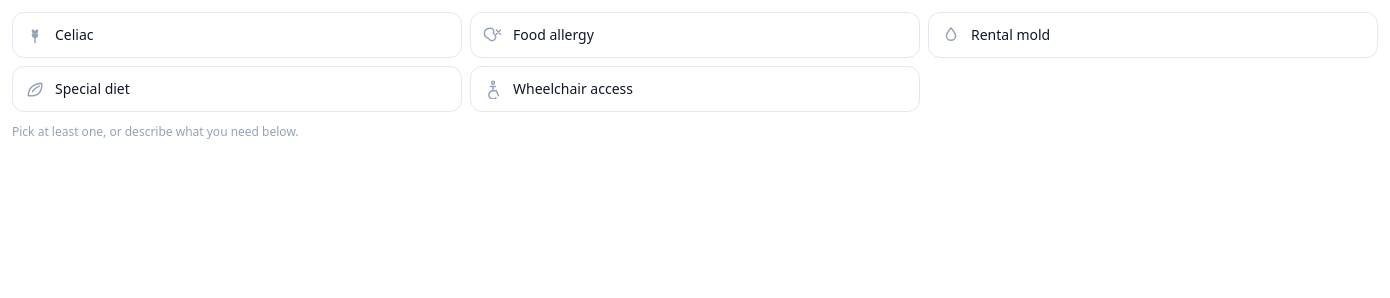
Test case: <RequirementChips /> › selecting Special diet reveals the diet picker
Click the button "Special diet".
click(92, 89)  # box x1=12 y1=66 x2=462 y2=112
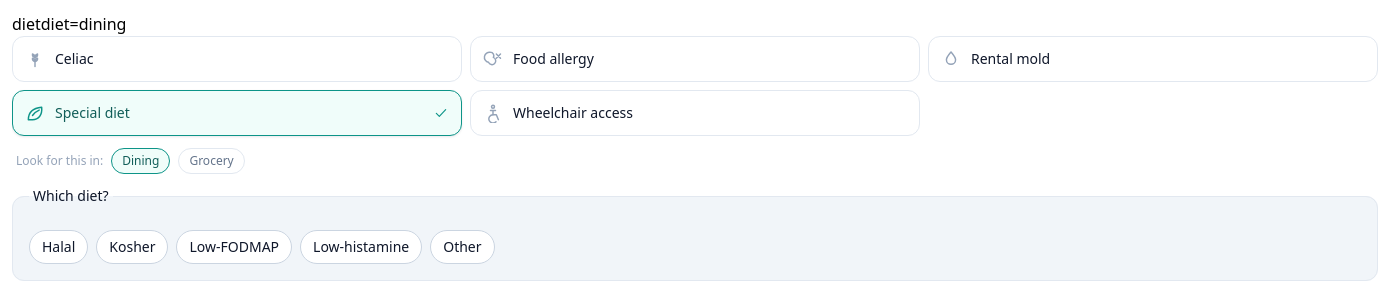
Expected: the text "Which diet?" is shown, x1=29 y1=186 x2=112 y2=206
Expected: the radio button labelled "Halal" is shown, x1=29 y1=230 x2=88 y2=264
